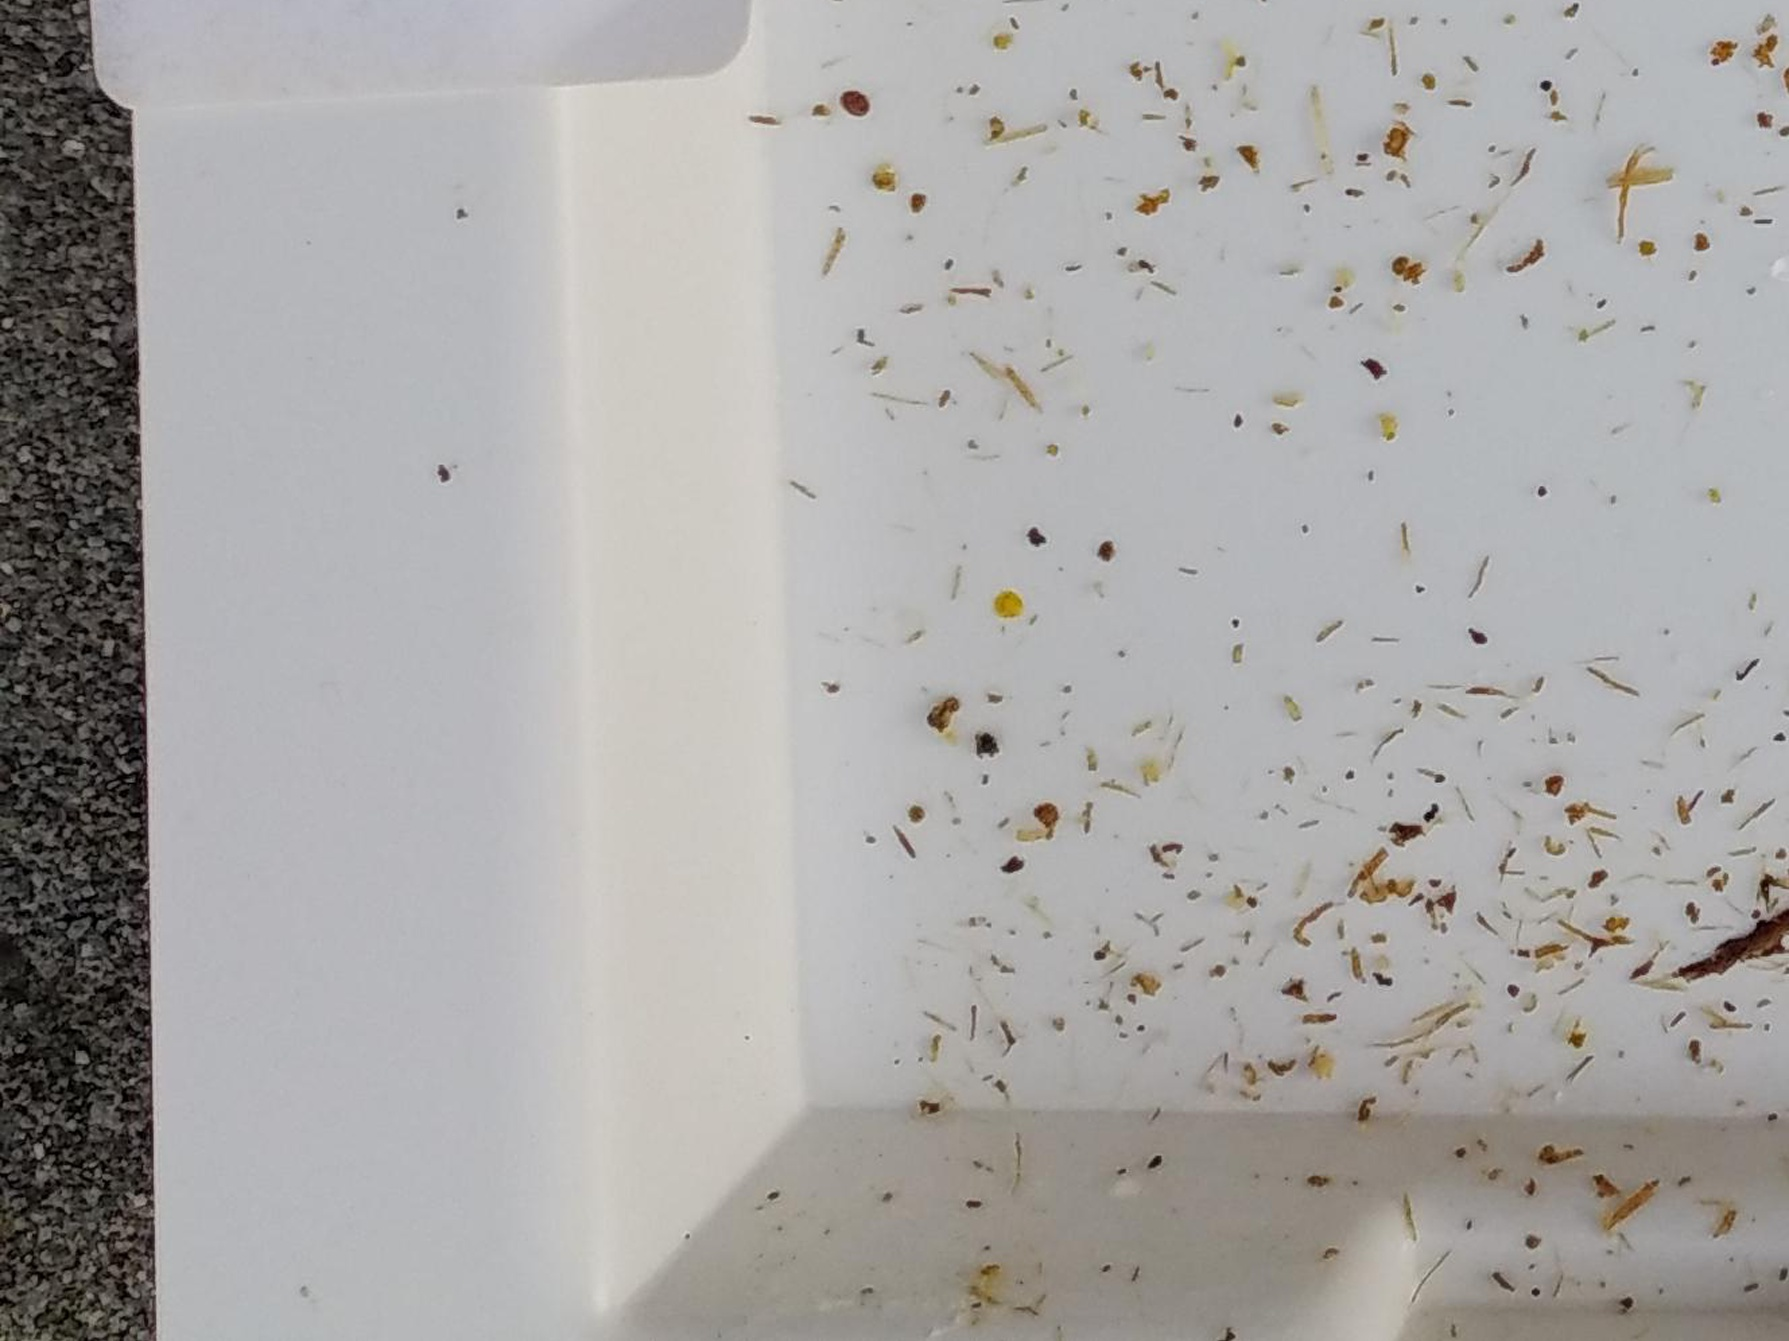Varroa: (847, 92, 868, 111)
